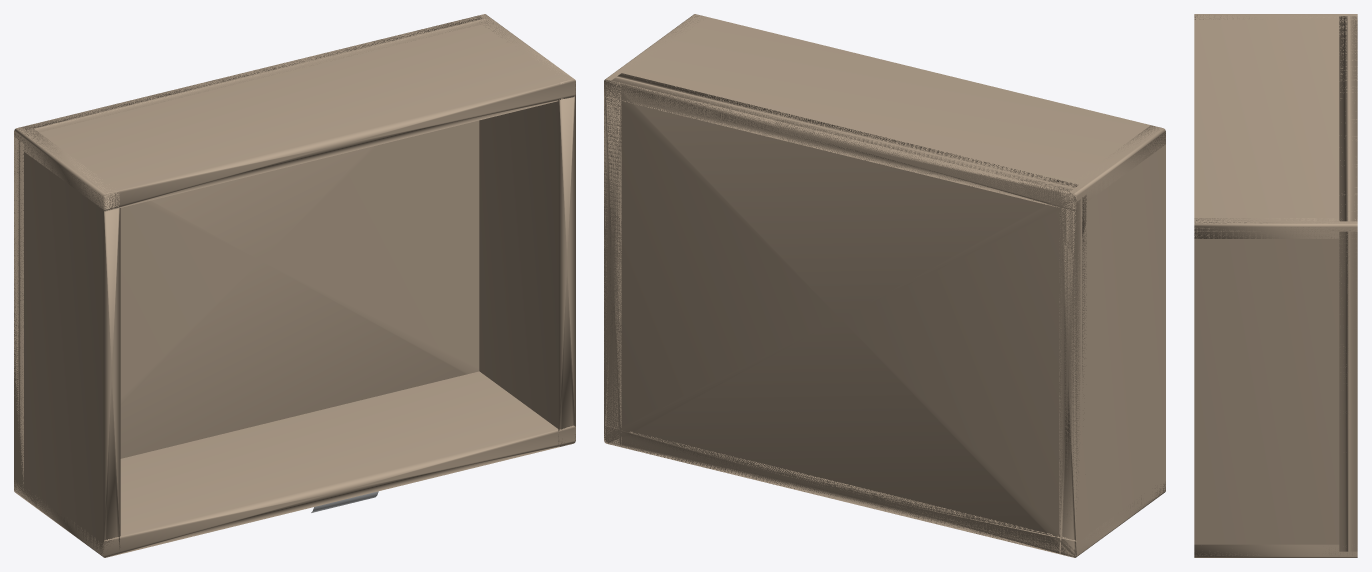
Rendered from drawer.glb.
3 renders of one model, left to right at view 1: azimuth 30°, elevation 25°; view 2: azimuth 150°, elevation 25°; view 3: azimuth 270°, elevation 25°, orthographic. The views are drawn at different scales.
Parts seen in each view (by area): view 1: drawer, back, front, left, right; view 2: drawer, back, left, front, right; view 3: right, back, drawer, front.
Boxes of the visible parts, <box> form: drawer: <box>14,15,488,489</box>; back: <box>14,14,575,211</box>; front: <box>14,371,575,557</box>; left: <box>14,125,120,557</box>; right: <box>476,15,575,446</box>; drawer: <box>604,73,1086,556</box>; back: <box>604,14,1165,211</box>; left: <box>1059,125,1165,557</box>; front: <box>604,425,1165,557</box>; right: <box>604,14,705,446</box>; right: <box>1194,218,1357,555</box>; back: <box>1194,14,1357,238</box>; drawer: <box>1339,16,1357,551</box>; front: <box>1194,544,1357,557</box>.
Size of the model in its own units: 0.19 by 0.154 by 0.062.
